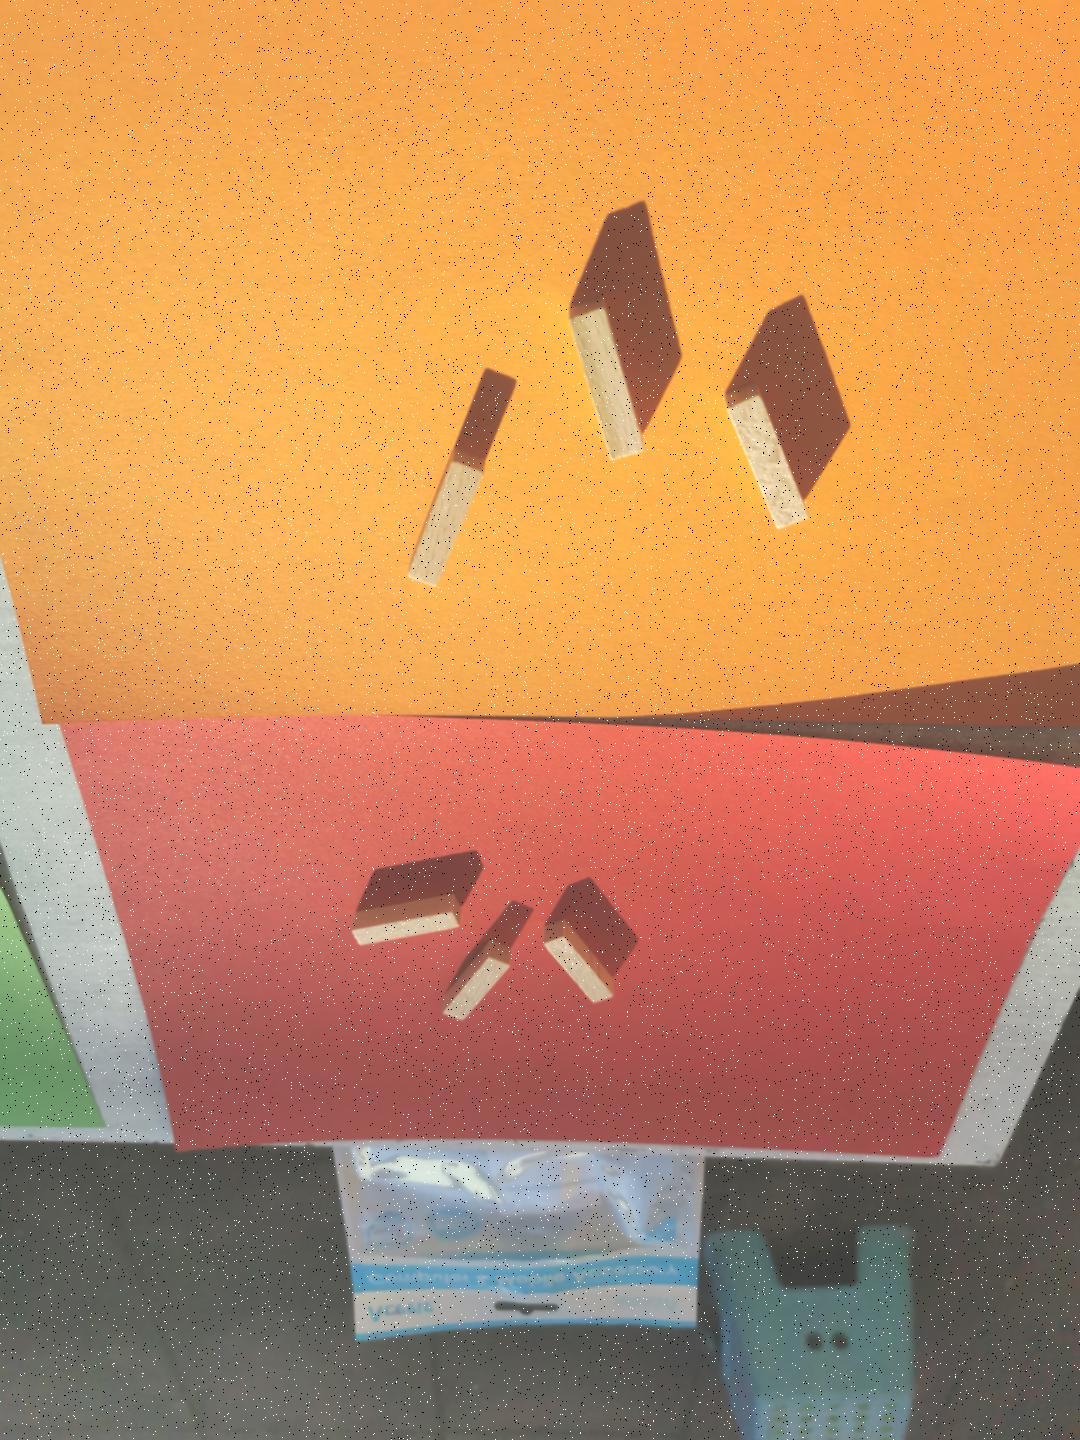jenga: (568, 298, 644, 458), (726, 382, 808, 528), (407, 450, 483, 585), (542, 920, 613, 1005), (441, 942, 512, 1020), (352, 895, 462, 945)
